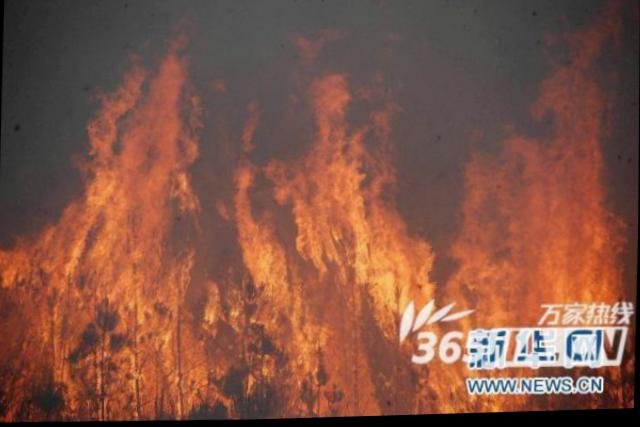fire: (0, 239, 399, 425), (79, 53, 197, 214), (461, 150, 611, 242), (443, 233, 630, 305), (268, 155, 400, 249), (536, 67, 612, 151), (31, 209, 172, 249), (307, 68, 347, 156), (400, 365, 462, 416), (397, 240, 436, 307), (227, 160, 251, 247), (561, 27, 608, 68), (349, 124, 396, 160), (461, 392, 534, 414), (250, 218, 284, 249), (495, 132, 538, 156), (239, 101, 257, 150)
